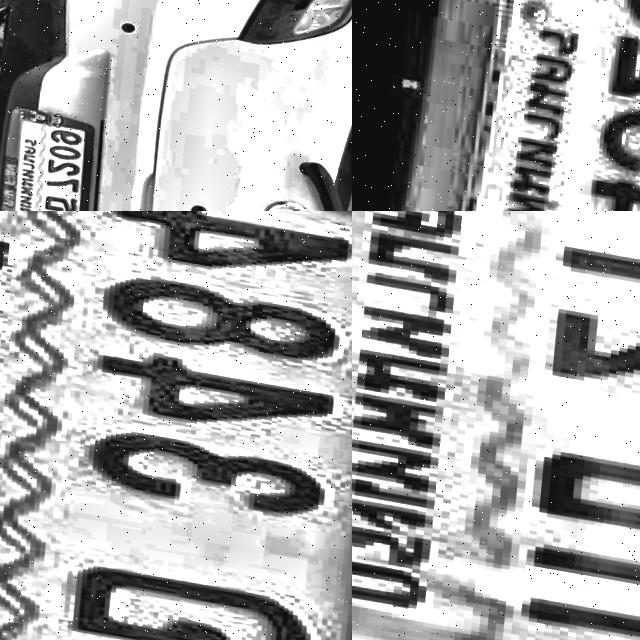license-plate: (0, 211, 352, 640), (352, 211, 640, 640), (386, 0, 640, 211), (0, 100, 108, 211)
